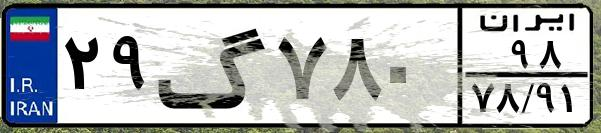0: (385, 28, 445, 110)
1: (560, 70, 590, 125)
2: (57, 26, 110, 100)
7: (270, 28, 330, 110), (470, 70, 495, 125)
8: (330, 28, 385, 110), (537, 27, 568, 80), (495, 70, 520, 125)
9: (110, 28, 156, 98), (508, 27, 537, 80), (535, 70, 560, 125)
گ: (156, 12, 270, 120)
